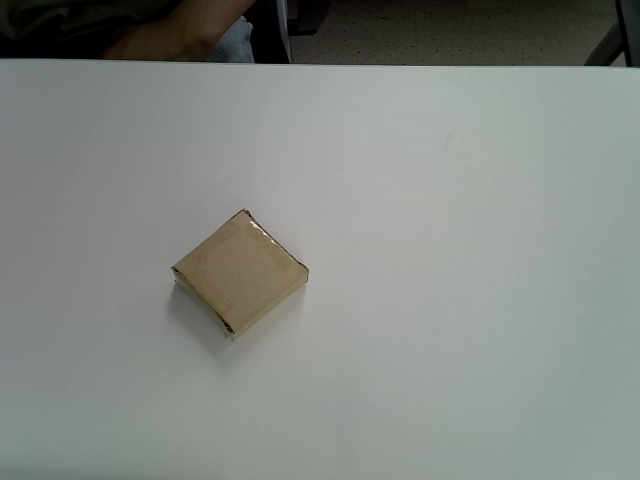normal: (170, 208, 310, 342)
